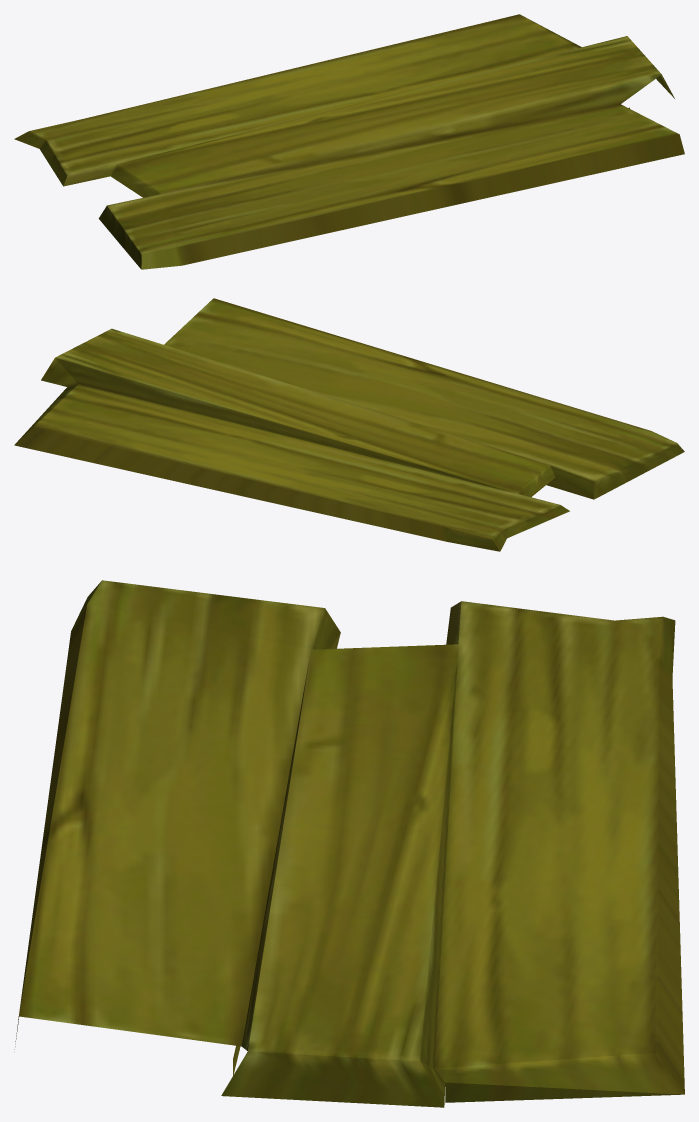
The model's file is Cunluo_xiaowujian05.FBX.
The picture shows the model from 3 angles, top to bottom: view 1: azimuth 30°, elevation 25°; view 2: azimuth 150°, elevation 25°; view 3: azimuth 270°, elevation 25°; orthographic projection. The views are drawn at different scales.
Parts seen in each view (by area): view 1: Cunluo_xiaowujian05; view 2: Cunluo_xiaowujian05; view 3: Cunluo_xiaowujian05.
Part boxes in pixels (left/top/right/bottom): Cunluo_xiaowujian05: left=14, top=14, right=684, bottom=269; Cunluo_xiaowujian05: left=14, top=298, right=684, bottom=551; Cunluo_xiaowujian05: left=14, top=580, right=684, bottom=1107.
Size of the model in its own units: 300 by 15.96 by 164.
